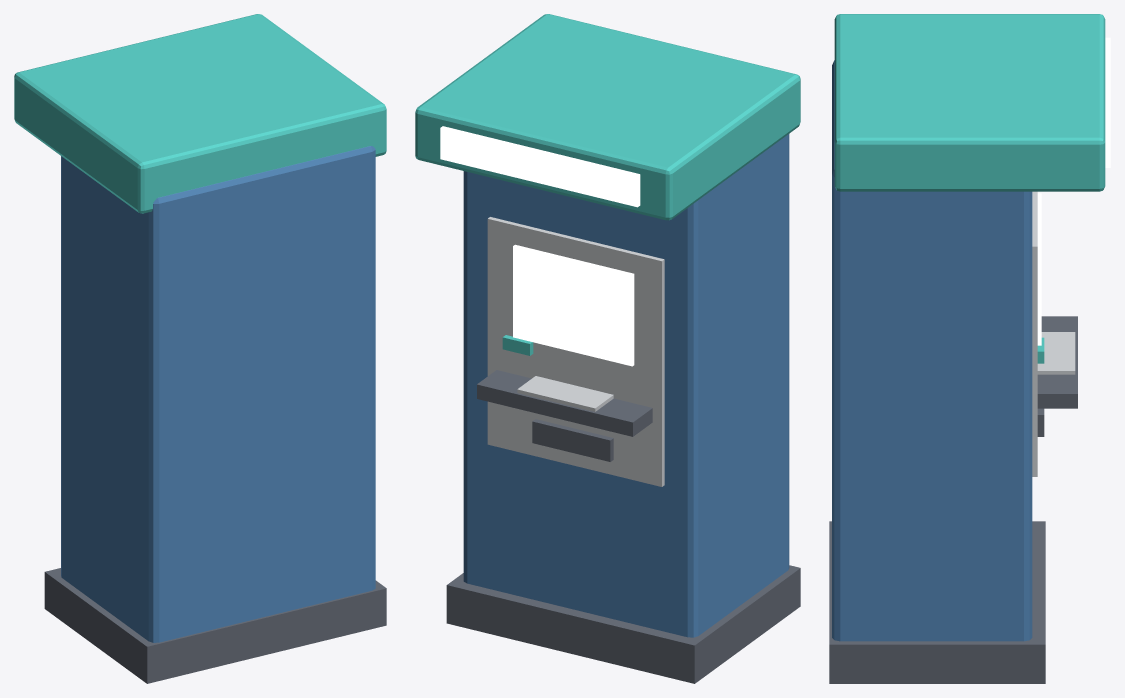
File: Istanbul_ATM.fbx
3 views of the same model, side by side, from view 1: azimuth 30°, elevation 25°; view 2: azimuth 150°, elevation 25°; view 3: azimuth 270°, elevation 25° (orthographic). The views are drawn at different scales.
Parts seen in each view (by area): view 1: ATM_Body, ATM_TopCanopy, ATM_BasePlinth; view 2: ATM_Body, ATM_TopCanopy, ATM_Fascia, ATM_BasePlinth, ATM_Screen, ATM_SignStrip, ATM_KeypadShelf, ATM_CashSlot, ATM_Keypad; view 3: ATM_Body, ATM_TopCanopy, ATM_BasePlinth, ATM_KeypadShelf, ATM_Fascia, ATM_Keypad, ATM_SignStrip, ATM_Screen.
Boxes of the visible parts, x1,y1,x2,y2 form: ATM_Body: [61, 146, 375, 642]; ATM_TopCanopy: [14, 14, 386, 213]; ATM_BasePlinth: [44, 568, 386, 683]; ATM_Body: [463, 134, 789, 637]; ATM_TopCanopy: [415, 14, 800, 220]; ATM_Fascia: [487, 217, 664, 486]; ATM_BasePlinth: [446, 565, 800, 683]; ATM_Screen: [513, 244, 634, 366]; ATM_SignStrip: [440, 126, 640, 207]; ATM_KeypadShelf: [477, 370, 652, 436]; ATM_CashSlot: [532, 419, 613, 461]; ATM_Keypad: [517, 376, 613, 411]; ATM_Body: [832, 60, 1032, 641]; ATM_TopCanopy: [834, 14, 1105, 191]; ATM_BasePlinth: [829, 521, 1045, 683]; ATM_KeypadShelf: [1037, 316, 1077, 408]; ATM_Fascia: [1032, 191, 1037, 476]; ATM_Keypad: [1037, 332, 1075, 374]; ATM_SignStrip: [1105, 37, 1110, 167]; ATM_Screen: [1037, 193, 1041, 345].
Bounding box in the file's own units: 1.12 × 2.23 × 1.04.
